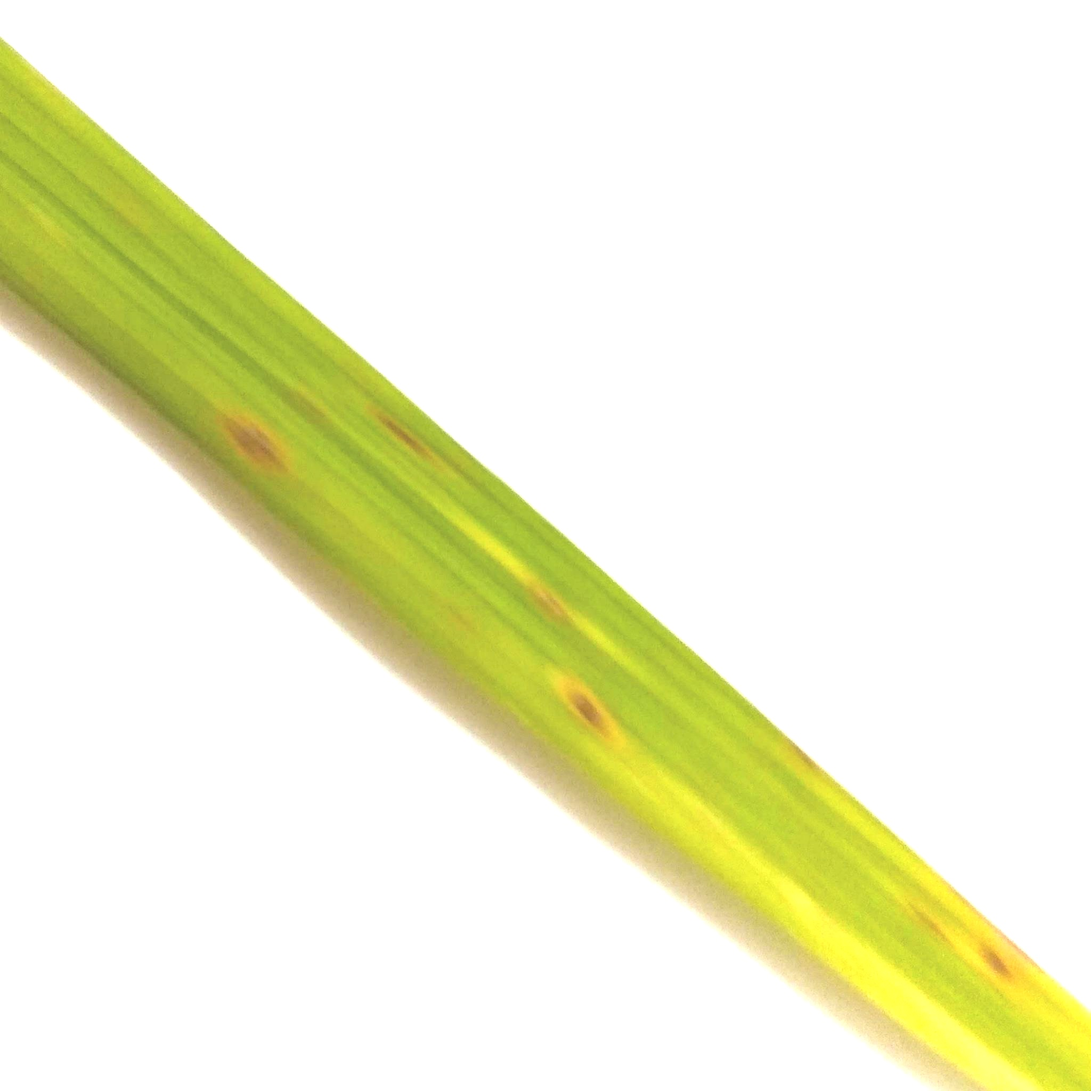Brown_Spot: (545, 650, 629, 754), (213, 396, 298, 489), (361, 386, 442, 470), (511, 564, 576, 630)
